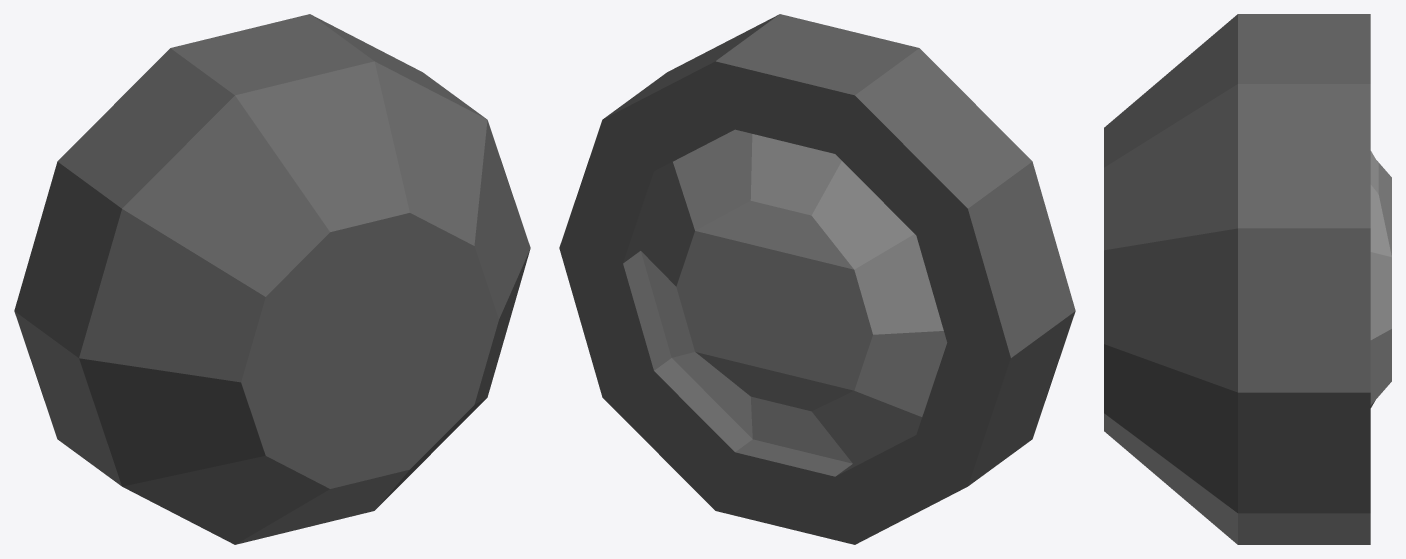
File: fisher_1_equipment_4.FBX
3 views of the same model, side by side, from view 1: azimuth 30°, elevation 25°; view 2: azimuth 150°, elevation 25°; view 3: azimuth 270°, elevation 25° (orthographic). The views are drawn at different scales.
Parts seen in each view (by area): view 1: fisher_1_equipment_4; view 2: fisher_1_equipment_4; view 3: fisher_1_equipment_4.
Part boxes in pixels (x1,y1,x2,y2): fisher_1_equipment_4: [14, 14, 530, 544]; fisher_1_equipment_4: [559, 14, 1075, 544]; fisher_1_equipment_4: [1104, 14, 1391, 544].
Bounding box in the file's own units: 8.36 × 7.95 × 4.5.
